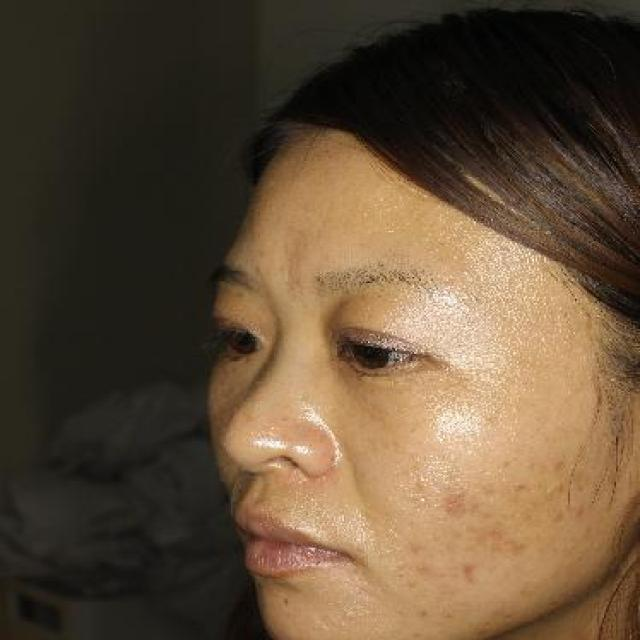Acne: (452, 558, 491, 592), (434, 488, 470, 523)
